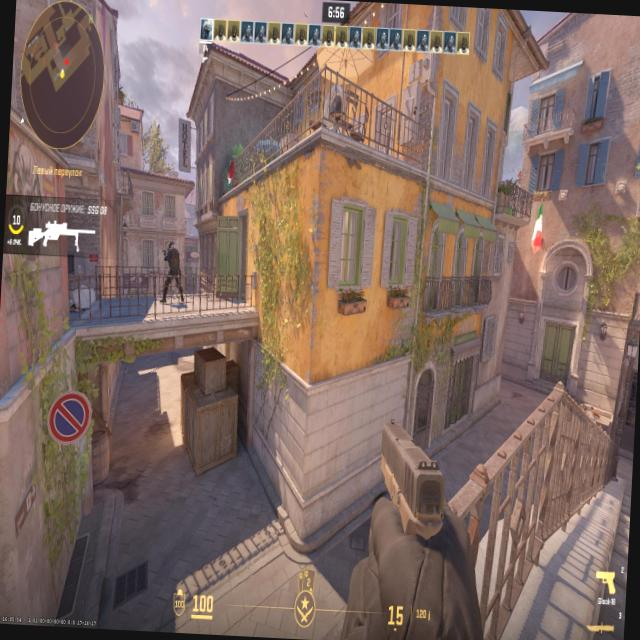CT: (163, 240, 183, 296)
CT_heat: (170, 244, 177, 257)
